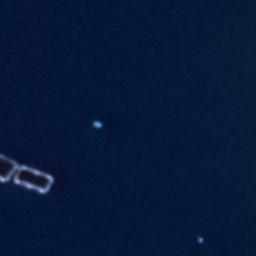square_solid: (9, 158, 57, 198)
